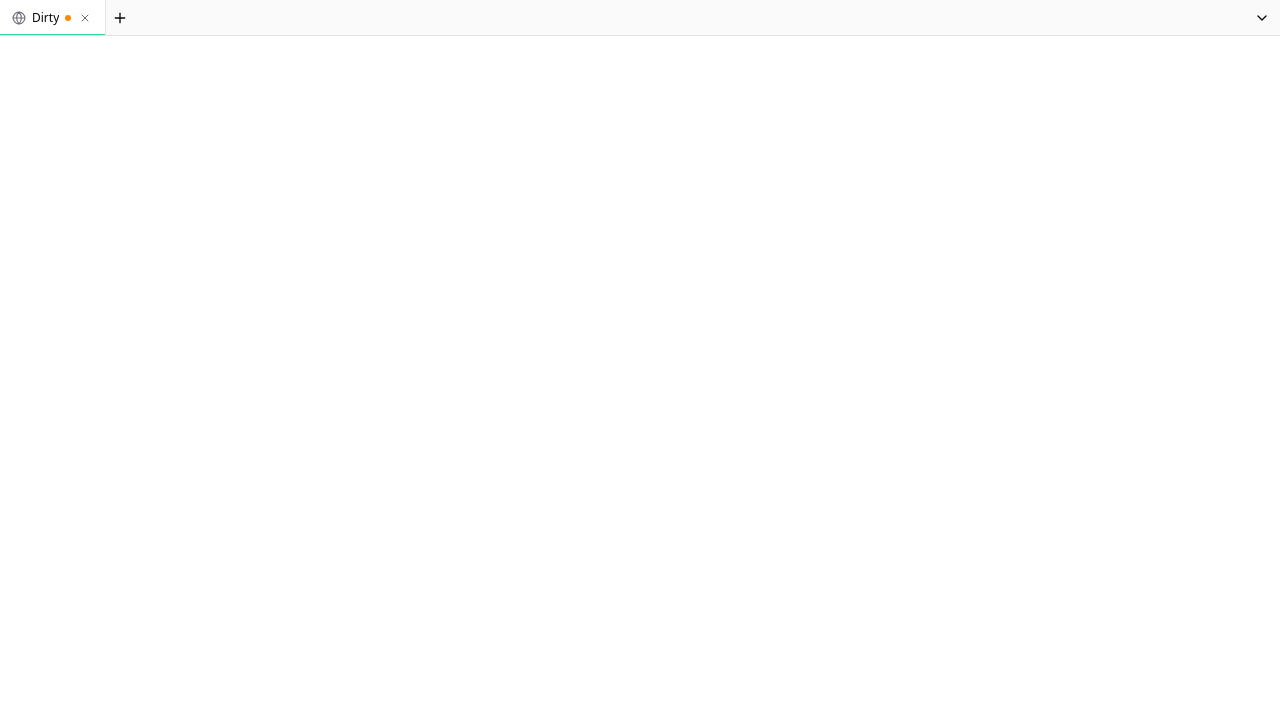
Scenario: TabBar › opening close guard for dirty tab shows unsaved dialog
Click the button named "close dirty tab" at (85, 18), box [79,12,91,24]
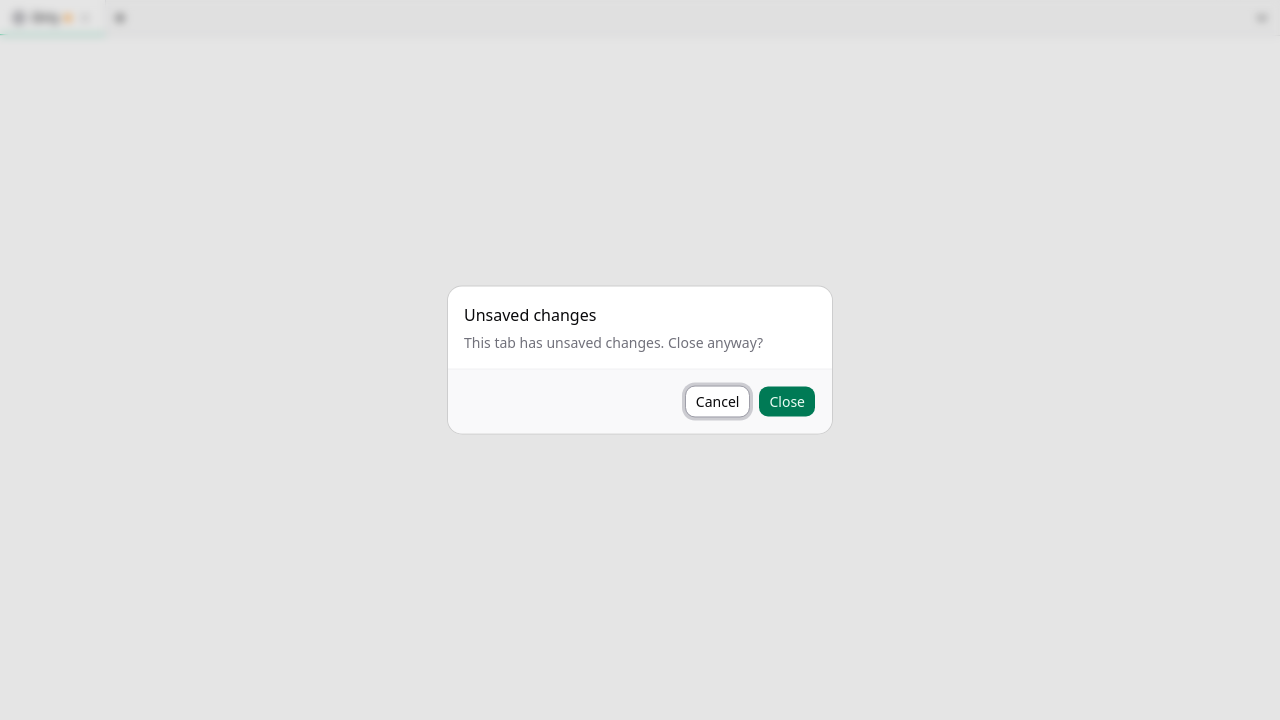
Now the dialog with test id "close-tab-dialog" is shown, box [448,286,832,434]
